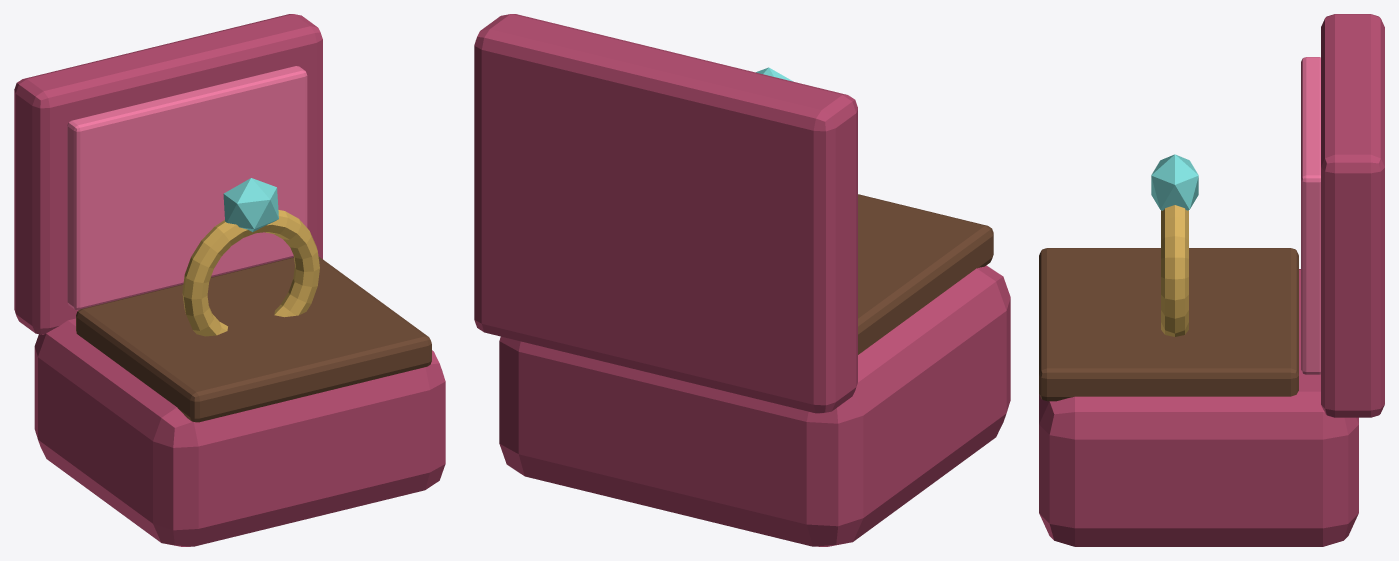
The model's file is P002_ring_box.glb.
3 renders of one model, left to right at view 1: azimuth 30°, elevation 25°; view 2: azimuth 150°, elevation 25°; view 3: azimuth 270°, elevation 25°, orthographic. The views are drawn at different scales.
Visible parts, largest first — view 1: P002_case_001, P002_lining_004, P002_velvet_002, P002_open_lid_003, P002_ring_005, P002_gem_006; view 2: P002_open_lid_003, P002_case_001, P002_velvet_002; view 3: P002_case_001, P002_velvet_002, P002_open_lid_003, P002_lining_004, P002_ring_005, P002_gem_006.
Boxes of the visible parts, bbox=[...] form: P002_case_001: bbox=[34, 318, 445, 546]; P002_lining_004: bbox=[67, 66, 307, 310]; P002_velvet_002: bbox=[76, 256, 431, 422]; P002_open_lid_003: bbox=[14, 14, 322, 334]; P002_ring_005: bbox=[182, 210, 319, 336]; P002_gem_006: bbox=[223, 178, 278, 232]; P002_open_lid_003: bbox=[474, 14, 857, 413]; P002_case_001: bbox=[499, 265, 1010, 546]; P002_velvet_002: bbox=[858, 194, 993, 354]; P002_case_001: bbox=[1039, 269, 1358, 546]; P002_velvet_002: bbox=[1039, 248, 1298, 401]; P002_open_lid_003: bbox=[1321, 14, 1384, 417]; P002_lining_004: bbox=[1301, 57, 1320, 374]; P002_ring_005: bbox=[1161, 205, 1188, 336]; P002_gem_006: bbox=[1151, 154, 1198, 210].
Size of the model in its own units: 0.18 by 0.221 by 0.173.
